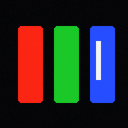4 line_v: (96, 41, 100, 79)
